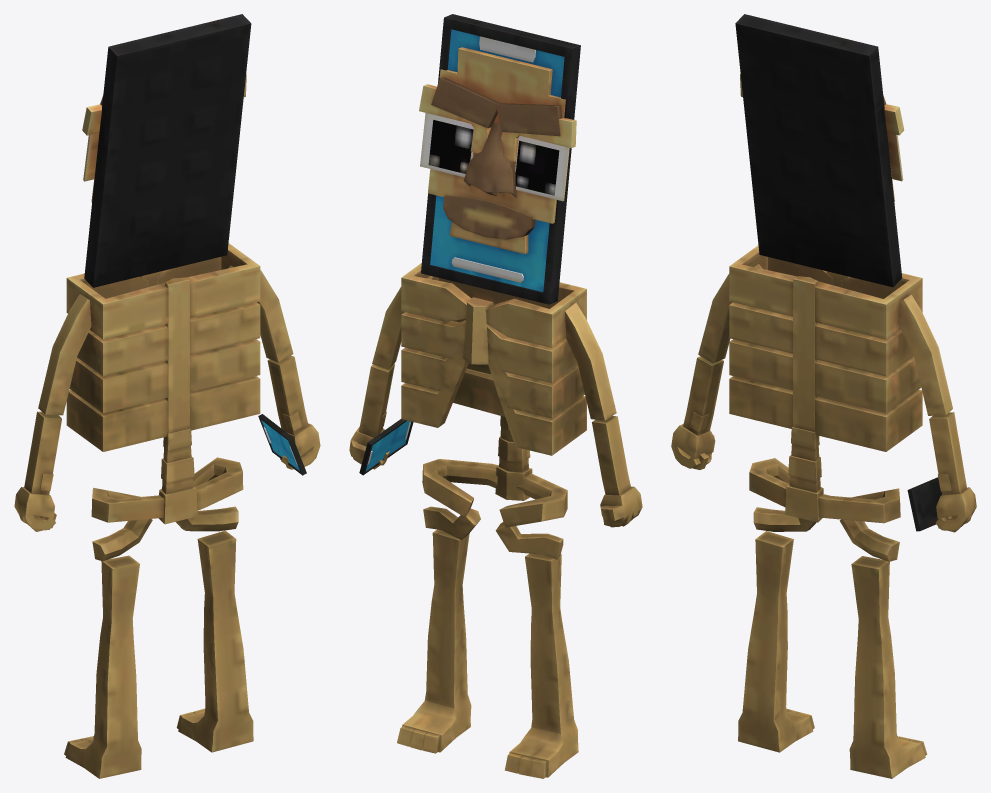
The model's file is Pot Hotspot.fbx.
3 views of the same model, side by side, from view 1: azimuth 30°, elevation 25°; view 2: azimuth 150°, elevation 25°; view 3: azimuth 330°, elevation 25° (orthographic). The views are drawn at different scales.
Parts seen in each view (by area): view 1: Pot Hotspot; view 2: Pot Hotspot; view 3: Pot Hotspot.
Part boxes in pixels (<box>): Pot Hotspot: <box>14,14,320,778</box>; Pot Hotspot: <box>349,14,642,778</box>; Pot Hotspot: <box>671,14,976,778</box>.
Bounding box in the file's own units: 361 × 860 × 103.
